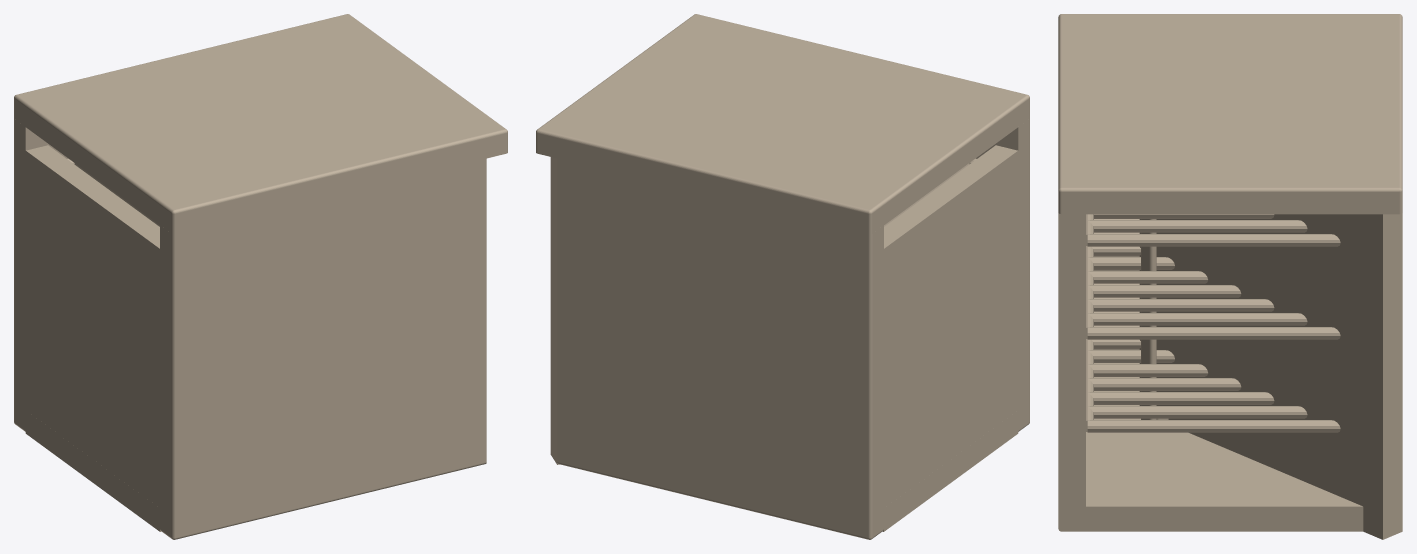
The model's file is 3dcodebench_BeverageFridge_seed0_L1_Q2__gemini4argon.glb.
3 views of the same model, side by side, from view 1: azimuth 30°, elevation 25°; view 2: azimuth 150°, elevation 25°; view 3: azimuth 270°, elevation 25° (orthographic). The views are drawn at different scales.
Parts seen in each view (by area): view 1: object; view 2: object; view 3: object.
Boxes of the visible parts, bbox=[...] form: object: bbox=[14, 14, 507, 539]; object: bbox=[536, 14, 1029, 539]; object: bbox=[1058, 14, 1402, 539].
Size of the model in its own units: 1.26 by 1.18 by 1.04.
